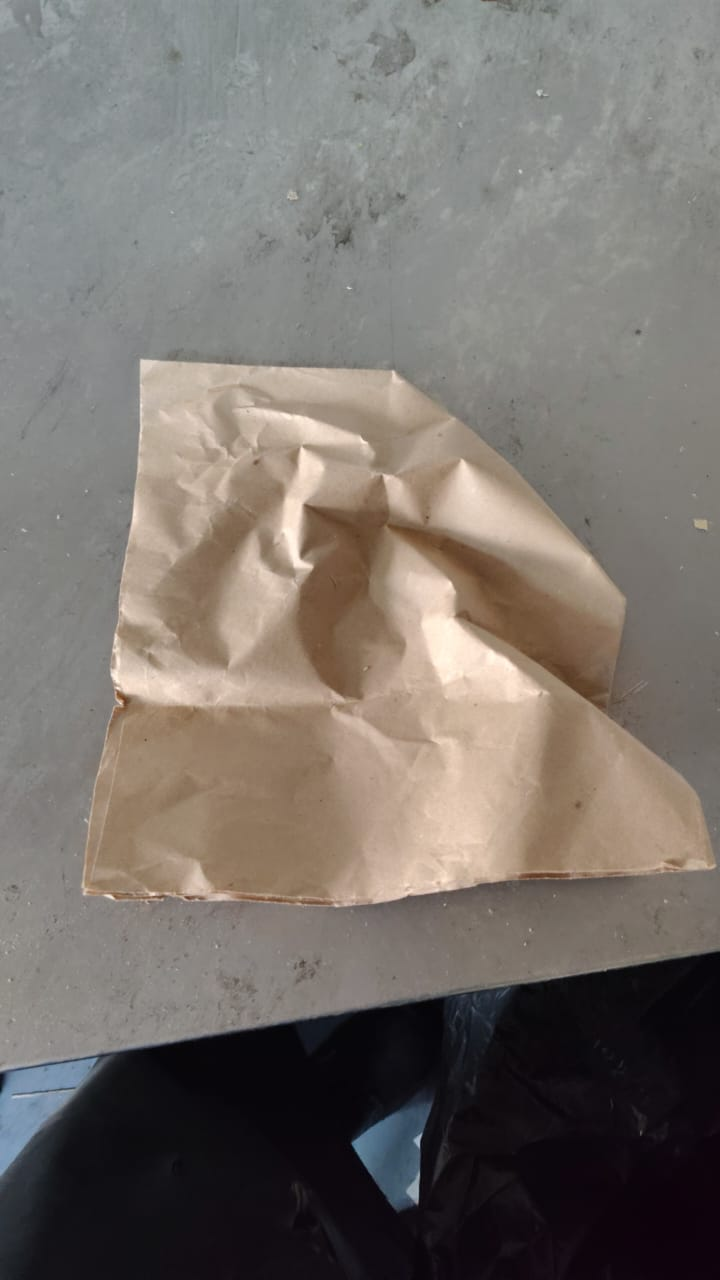Carton: (82, 361, 712, 909)
